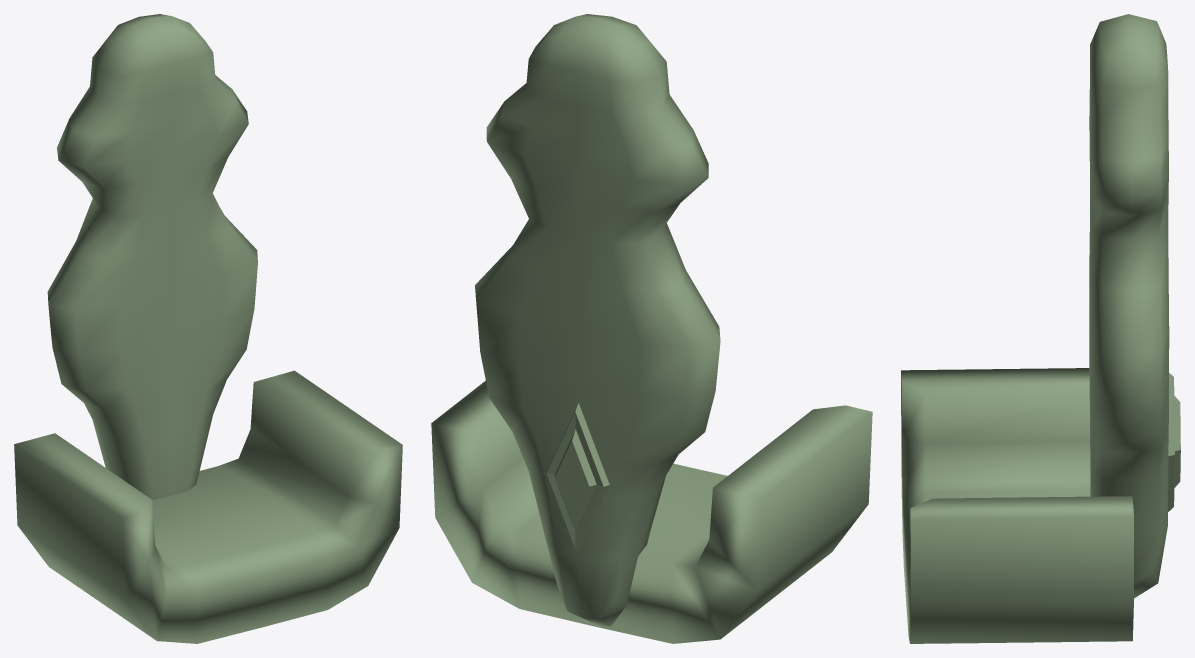
File: Cadeira_Flutuante.fbx
3 views of the same model, side by side, from view 1: azimuth 30°, elevation 25°; view 2: azimuth 150°, elevation 25°; view 3: azimuth 270°, elevation 25° (orthographic). The views are drawn at different scales.
Visible parts, largest first — view 1: Cadeira_Vit; view 2: Cadeira_Vit; view 3: Cadeira_Vit.
Part boxes in pixels (x1,y1,x2,y2): Cadeira_Vit: [14, 14, 402, 643]; Cadeira_Vit: [431, 14, 872, 643]; Cadeira_Vit: [901, 14, 1180, 643].
Bounding box in the file's own units: 4.74 × 8.36 × 3.67.
